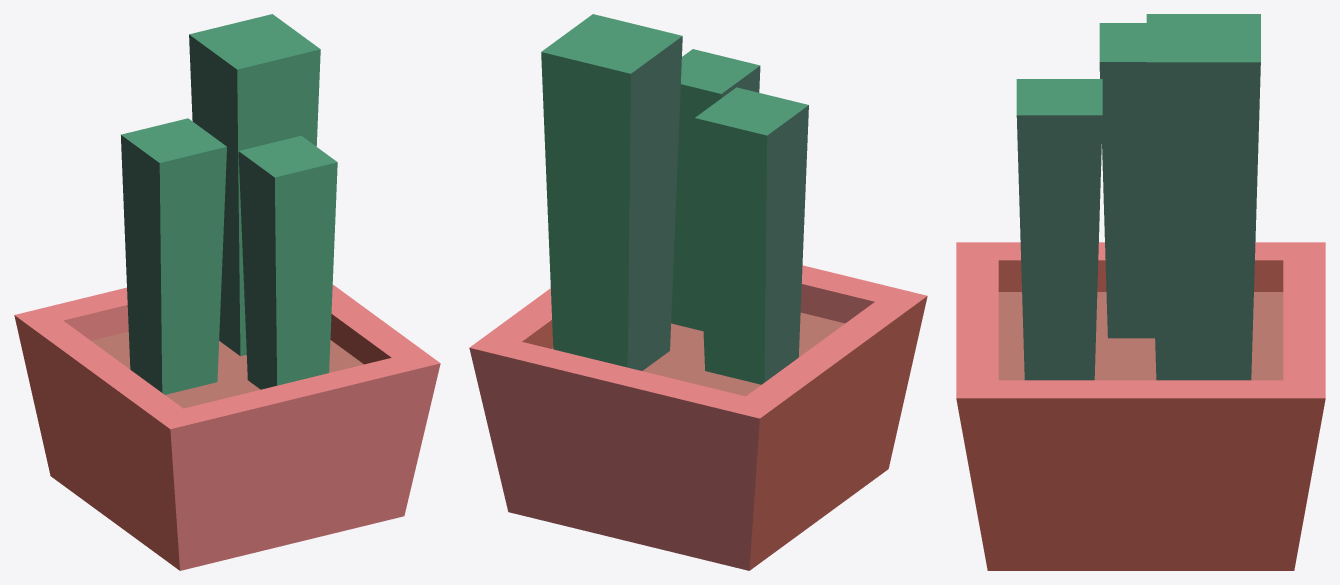
Rendered from Plant 02.fbx.
3 renders of one model, left to right at view 1: azimuth 30°, elevation 25°; view 2: azimuth 150°, elevation 25°; view 3: azimuth 270°, elevation 25°, orthographic. The views are drawn at different scales.
Visible parts, largest first — view 1: Plant 02; view 2: Plant 02; view 3: Plant 02.
Boxes of the visible parts, left/top/right/bottom form: Plant 02: left=14, top=14, right=440, bottom=570; Plant 02: left=469, top=14, right=927, bottom=570; Plant 02: left=956, top=14, right=1325, bottom=570.
Bounding box in the file's own units: 34.51 × 51.46 × 34.51.
